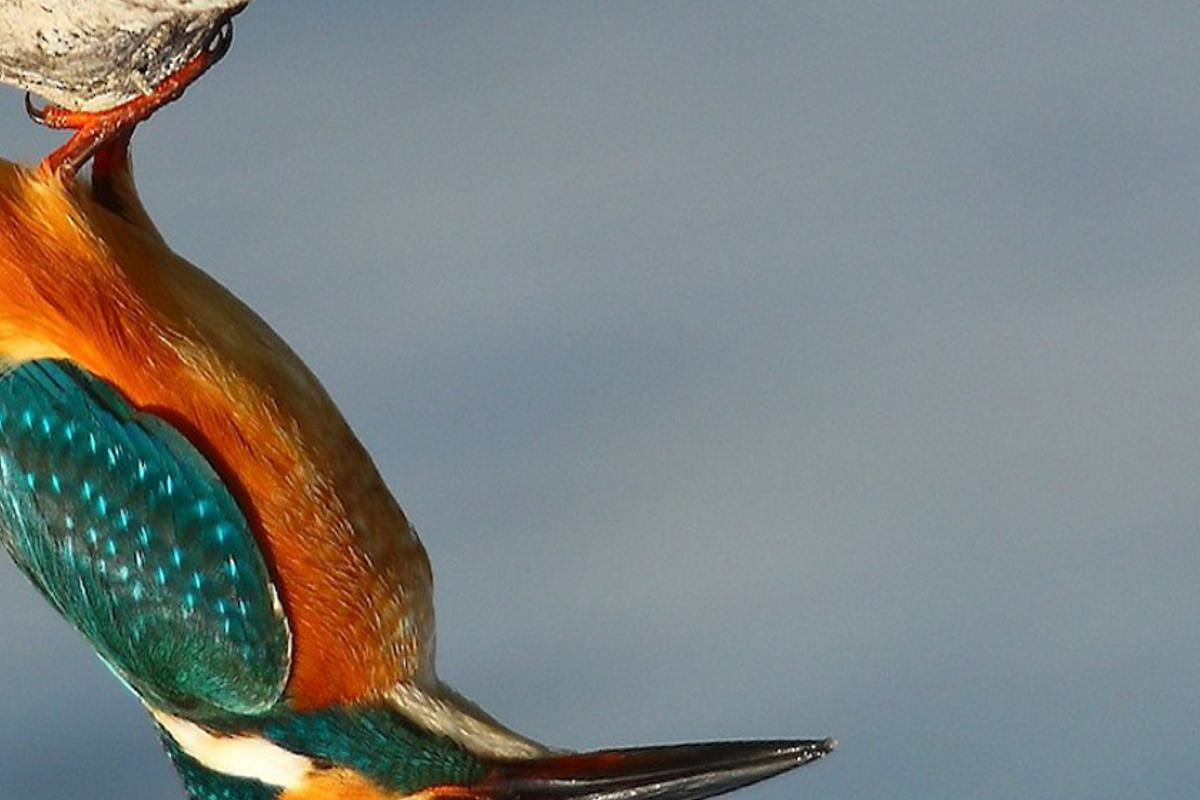kingfisher: (1, 101, 840, 800)
